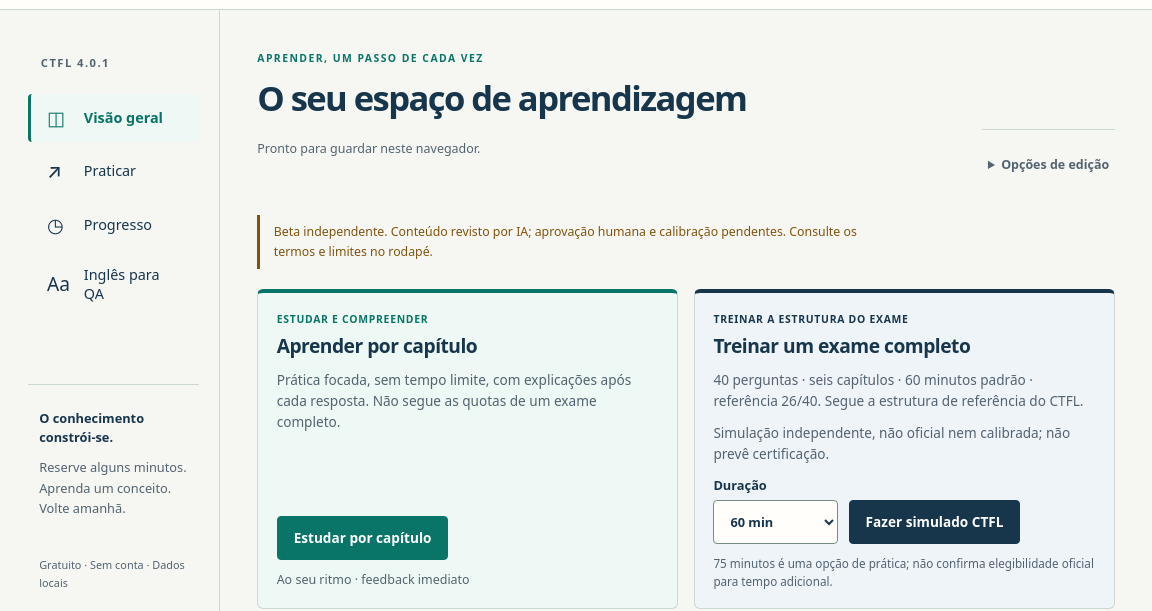
Test: a single StrictMode tab gets write access and persists a new 40-question exam
This screenshot has width=1152, height=611.
Expected: the text "Pronto para guardar neste navegador." is shown, [257,140,480,157]
Step 1. Click the button "Fazer simulado CTFL" → point(934, 522), box [849,500,1020,544]
(page scrolled)
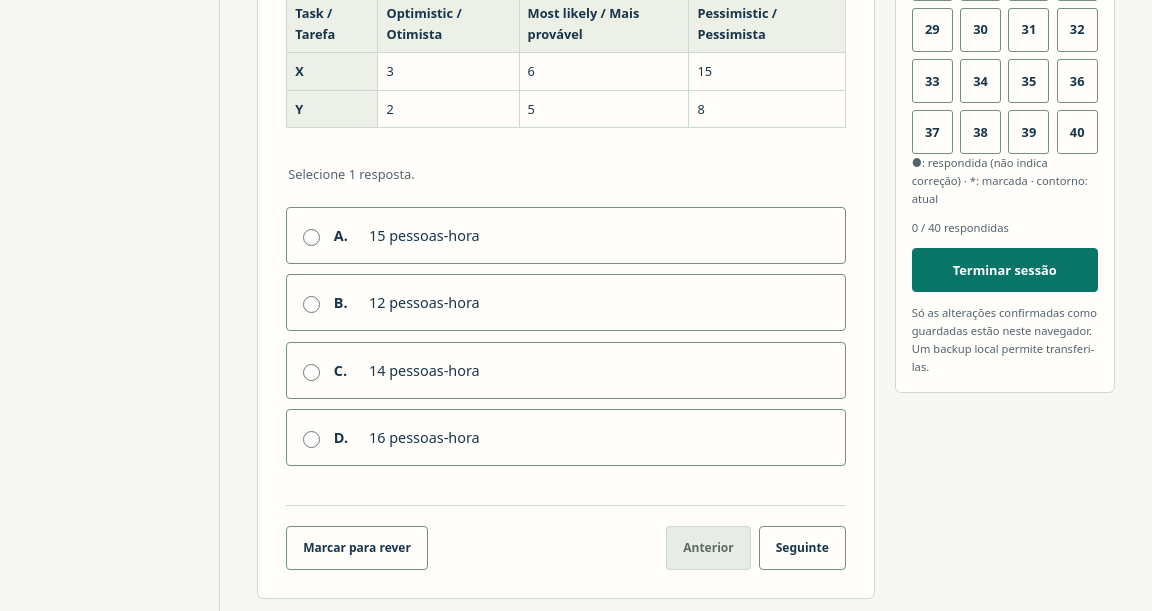
Expected: the button "Terminar sessão" is enabled, [912,248,1098,292]
